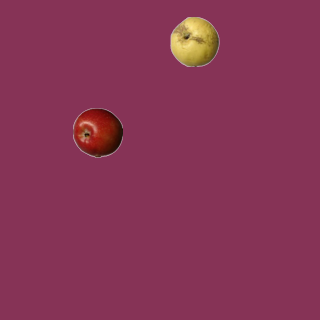Apple Braeburn: (72, 107, 122, 157)
Apple Golden 1: (169, 16, 219, 66)
